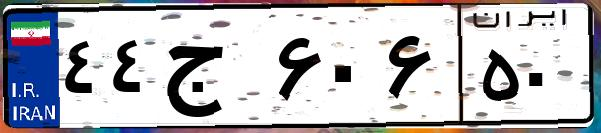0: (330, 28, 385, 110), (525, 38, 570, 115)
4: (57, 26, 110, 100), (110, 28, 158, 98)
5: (475, 38, 525, 113)
6: (270, 28, 330, 110), (385, 28, 445, 110)
ج: (158, 20, 270, 120)
